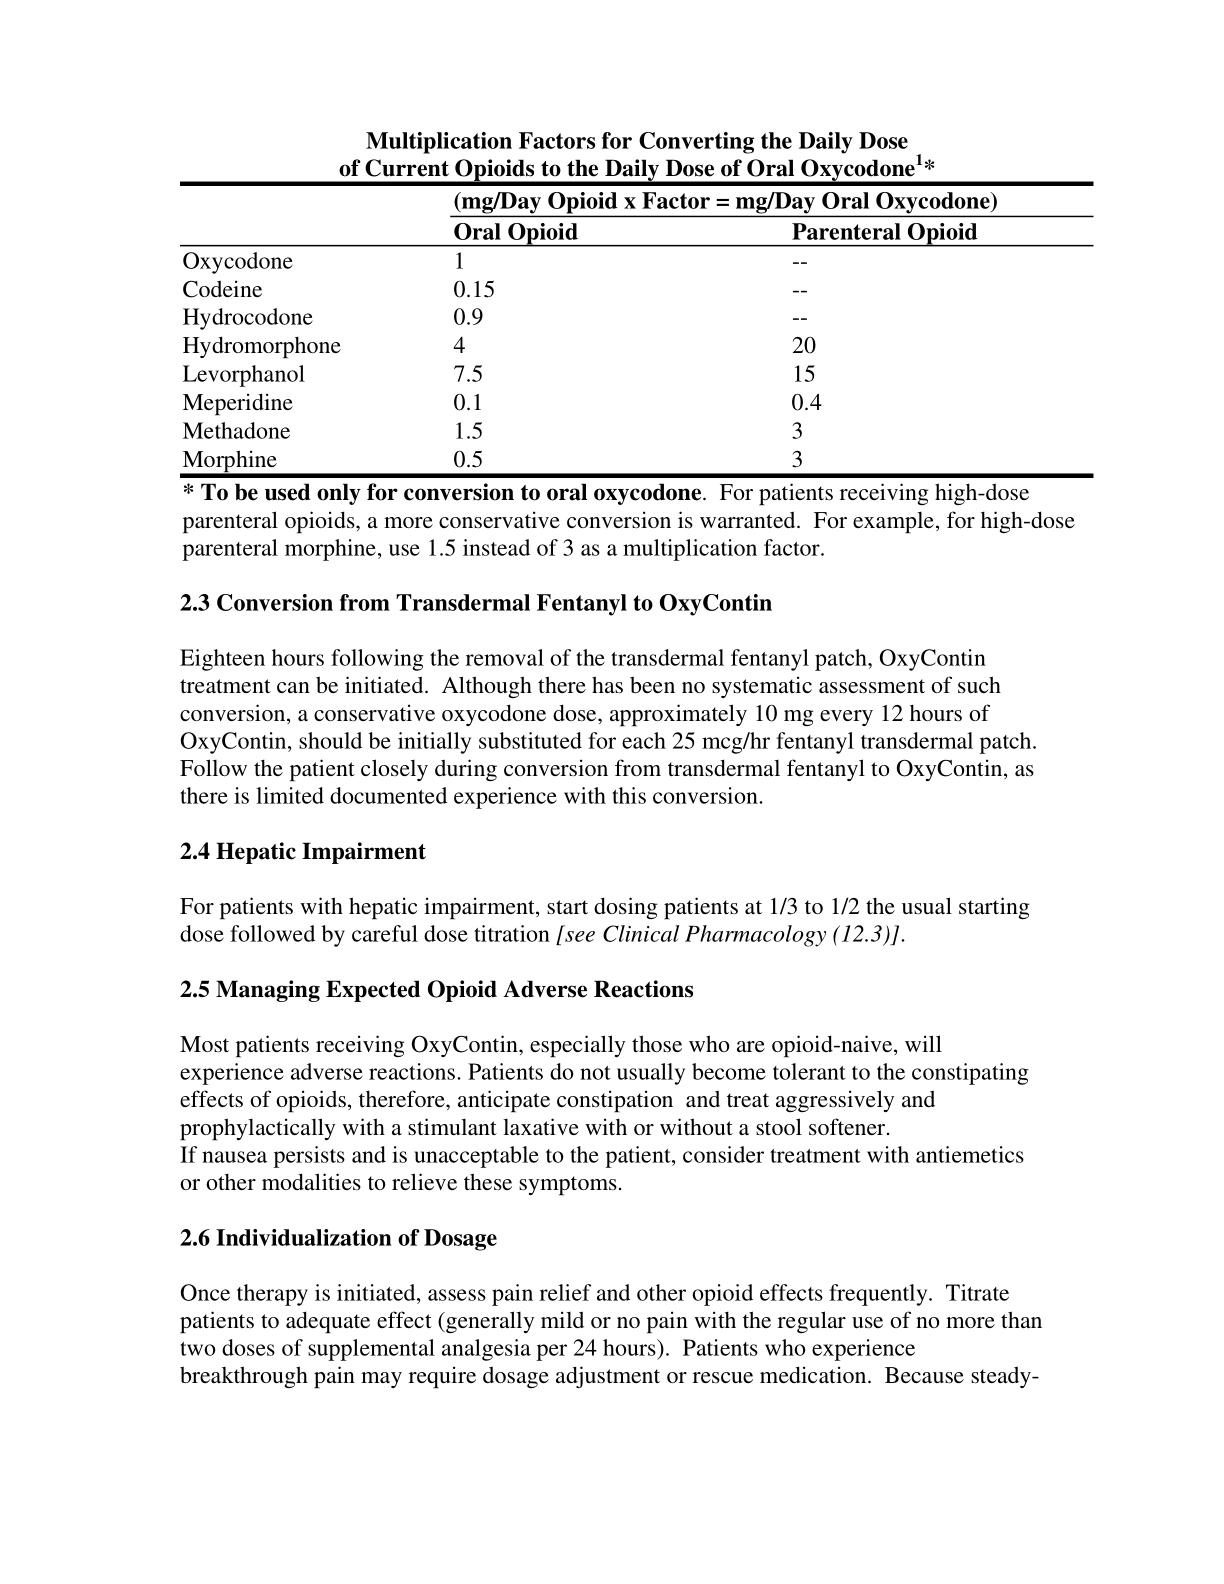partial_lined_merged_cells: (172, 180, 1097, 481)
